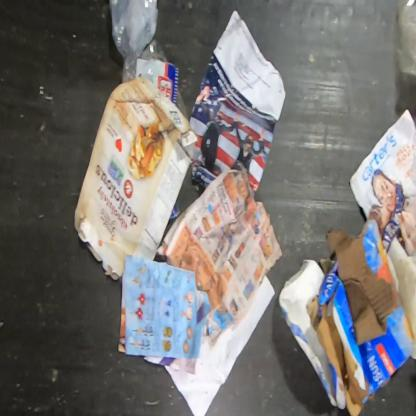cardboard: (74, 75, 198, 280), (304, 216, 415, 415)
rigid_plastic: (109, 0, 167, 83), (396, 0, 415, 79)
